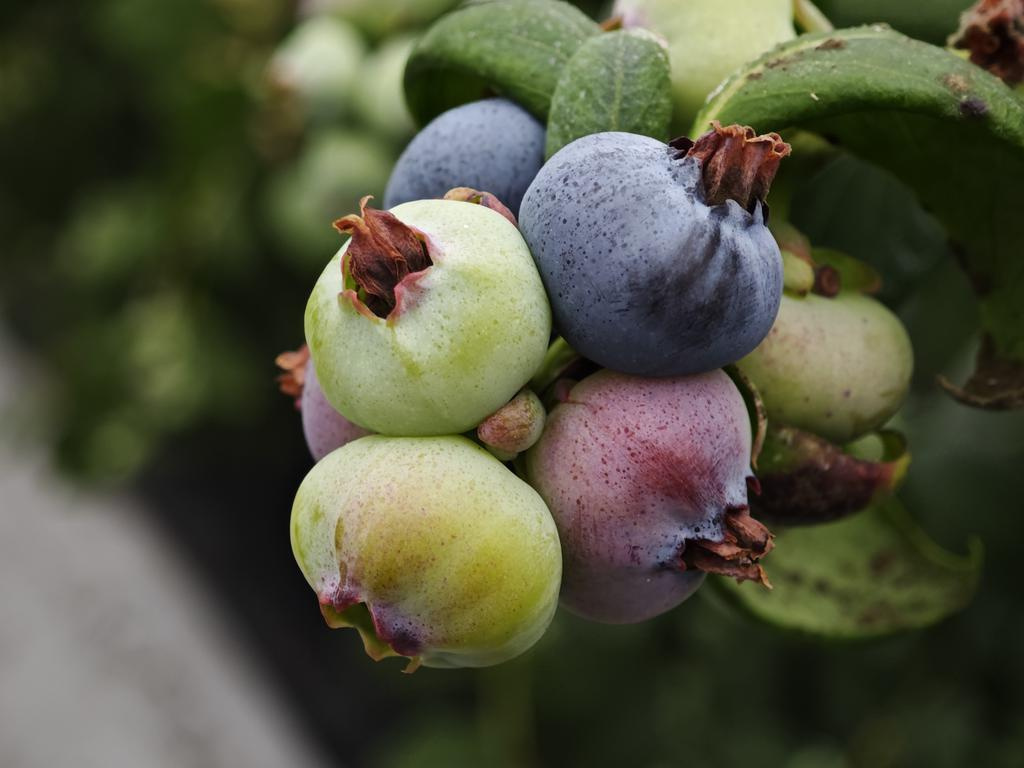RipeBlueBerry: (519, 127, 785, 377)
Semi-RipeBlueBerry: (539, 367, 759, 628)
UnripeBlueBerry: (287, 433, 565, 672), (299, 195, 553, 437)
